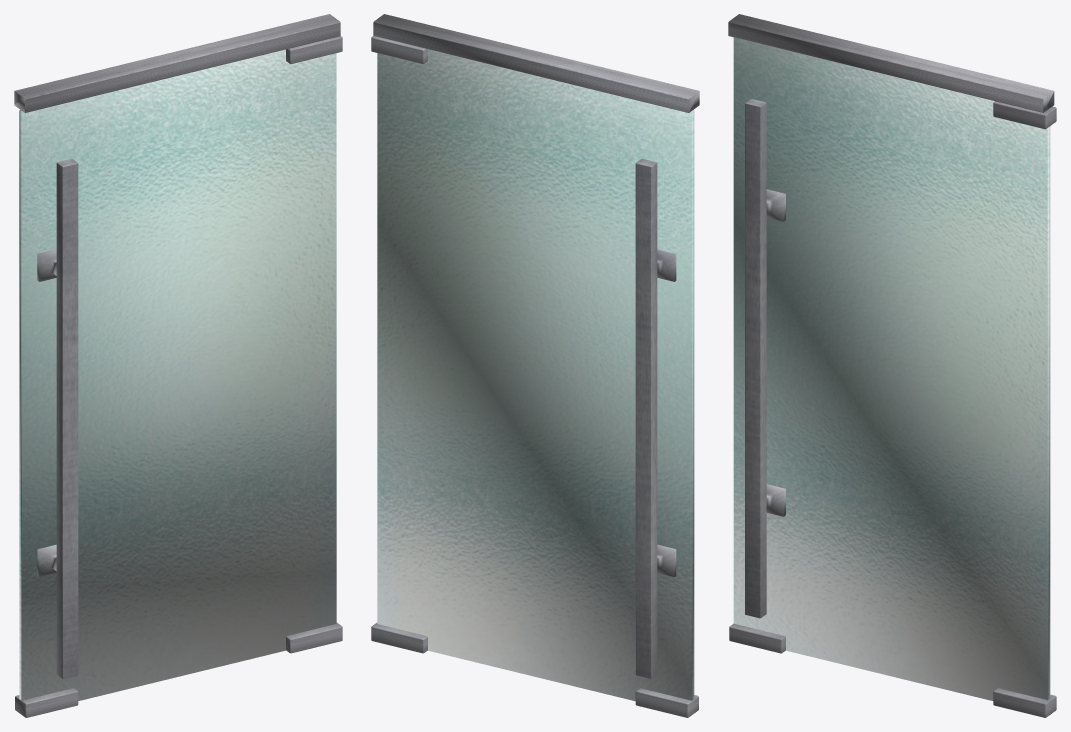
The model's file is PuertaCristal2.obj.
The picture shows the model from 3 angles, left to right: view 1: azimuth 30°, elevation 25°; view 2: azimuth 150°, elevation 25°; view 3: azimuth 330°, elevation 25°; orthographic projection.
Parts seen in each view (by area): view 1: Object004.001, ChamferBox002.001, ChamferBox001.001, ChamferBox003.001; view 2: Object004.001, ChamferBox002.001, ChamferBox001.001, ChamferBox003.001; view 3: Object004.001, ChamferBox002.001, ChamferBox001.001, ChamferBox003.001.
Part boxes in pixels (x1=…): Object004.001: x1=19, y1=49, x2=336, y2=700; ChamferBox002.001: x1=37, y1=159, x2=78, y2=678; ChamferBox001.001: x1=14, y1=14, x2=340, y2=112; ChamferBox003.001: x1=15, y1=36, x2=342, y2=717; Object004.001: x1=377, y1=49, x2=694, y2=701; ChamferBox002.001: x1=635, y1=158, x2=676, y2=678; ChamferBox001.001: x1=373, y1=14, x2=699, y2=112; ChamferBox003.001: x1=371, y1=36, x2=698, y2=717; Object004.001: x1=733, y1=37, x2=1050, y2=700; ChamferBox002.001: x1=745, y1=98, x2=785, y2=618; ChamferBox001.001: x1=728, y1=14, x2=1054, y2=112; ChamferBox003.001: x1=729, y1=101, x2=1056, y2=717.
Size of the model in its own units: 1.61 by 3 by 0.2807.
Materials: 2 (2 with a texture image).
